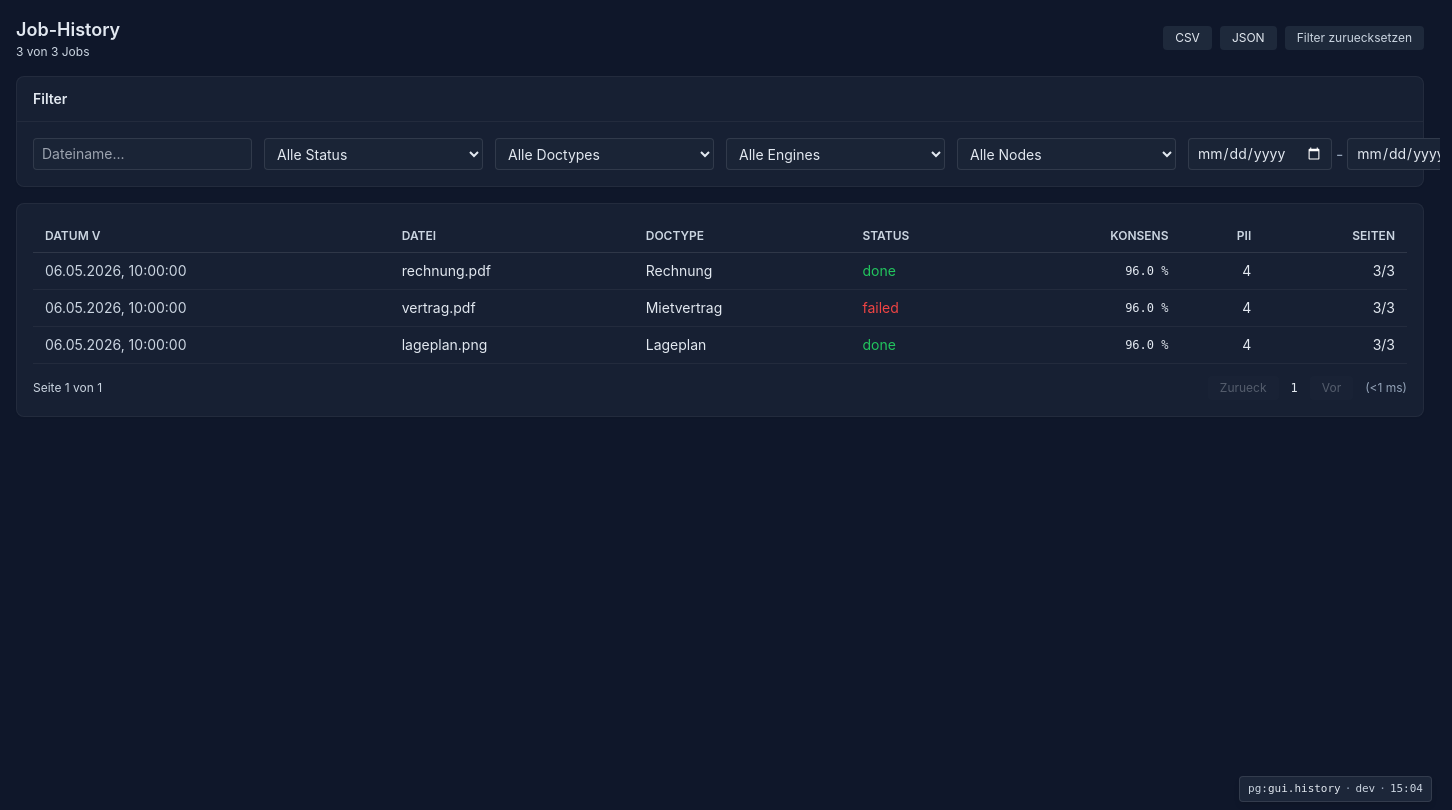
Scenario: HistoryTab › filtert nach Filename via Search
Expected: the table with test id "history-table" is shown, left=33, top=220, right=1407, bottom=364
Type "lageplan" into the search field with test id "history-filter-search" at (142, 154), box left=33, top=138, right=252, bottom=170
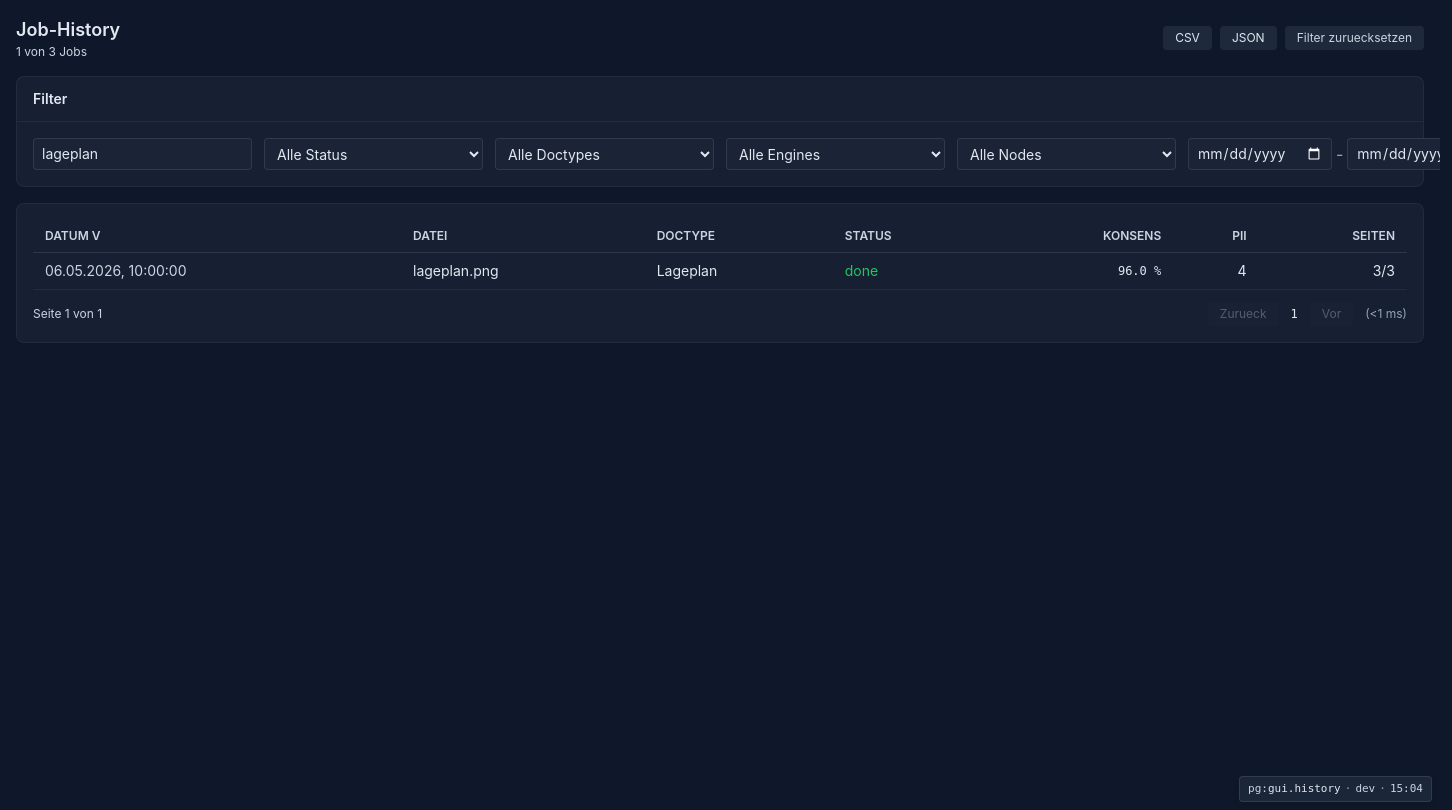
Expected: the row with test id "history-row-ocr-3" is shown, left=33, top=252, right=1407, bottom=290
Expected: the row with test id "history-row-ocr-1" is gone
Expected: the row with test id "history-row-ocr-2" is gone
